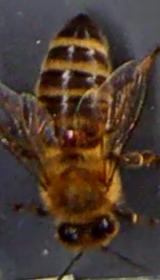varroa_mite: (56, 124, 85, 148)
